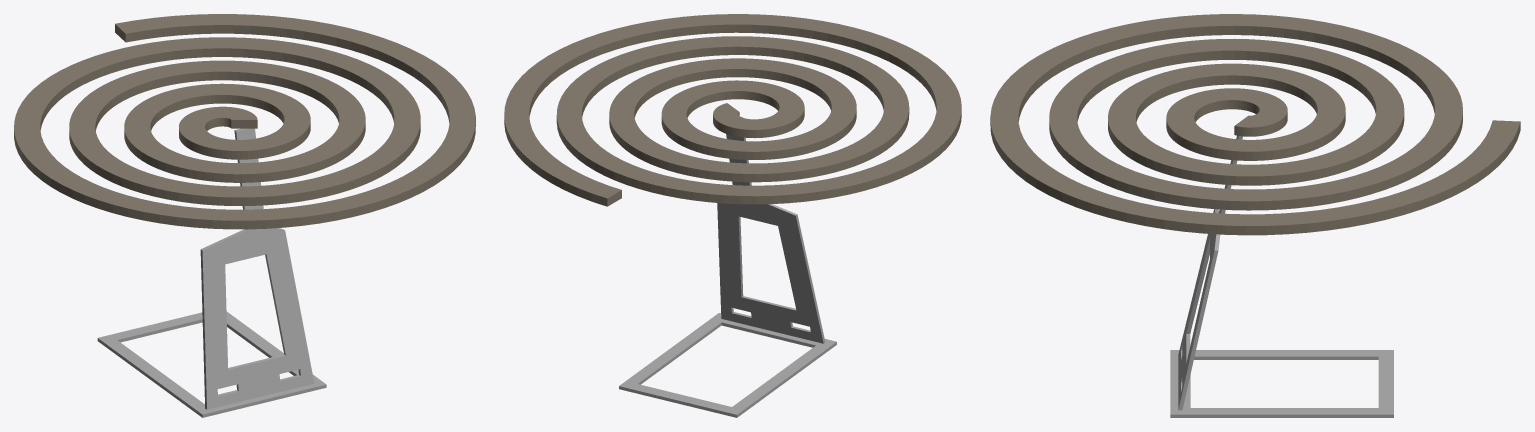
Rendered from NEW605_mosquito_coil_LOD0.glb.
3 views of the same model, side by side, from view 1: azimuth 30°, elevation 25°; view 2: azimuth 150°, elevation 25°; view 3: azimuth 270°, elevation 25° (orthographic). The views are drawn at different scales.
Visible parts, largest first — view 1: Continuous_flat_coil, Folded_tapered_slotted_upright, Open_rectangular_base; view 2: Continuous_flat_coil, Folded_tapered_slotted_upright, Open_rectangular_base; view 3: Continuous_flat_coil, Open_rectangular_base, Folded_tapered_slotted_upright.
Boxes of the visible parts, bbox=[...] form: Continuous_flat_coil: bbox=[14, 14, 475, 229]; Folded_tapered_slotted_upright: bbox=[200, 128, 314, 409]; Open_rectangular_base: bbox=[97, 311, 326, 417]; Continuous_flat_coil: bbox=[504, 14, 961, 206]; Folded_tapered_slotted_upright: bbox=[717, 117, 825, 343]; Open_rectangular_base: bbox=[619, 313, 836, 417]; Continuous_flat_coil: bbox=[990, 14, 1520, 235]; Open_rectangular_base: bbox=[1170, 350, 1393, 417]; Folded_tapered_slotted_upright: bbox=[1178, 135, 1242, 410].
Size of the model in its own units: 0.0987 by 0.059 by 0.1042.
